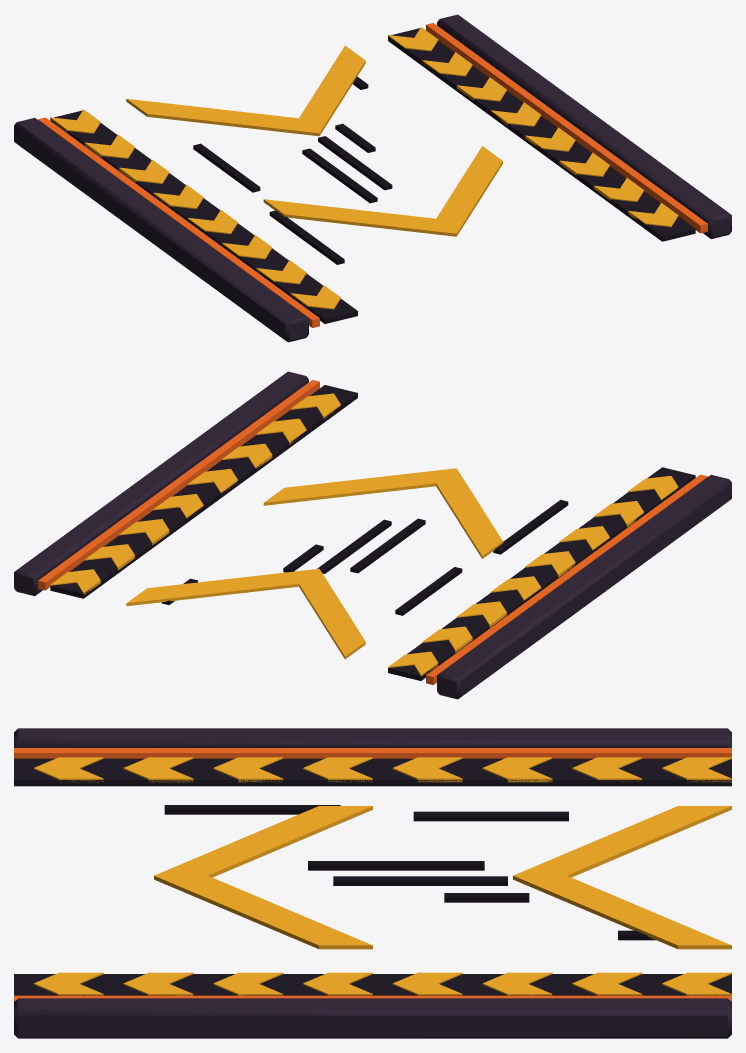
File: trap_crusher_lane__lower.glb
3 renders of one model, top to bottom at view 1: azimuth 30°, elevation 25°; view 2: azimuth 150°, elevation 25°; view 3: azimuth 270°, elevation 25°, orthographic. The views are drawn at different scales.
Parts seen in each view (by area): view 1: Lane; view 2: Lane; view 3: Lane.
Part boxes in pixels (<box>): Lane: <box>14,14,731,342</box>; Lane: <box>14,371,731,699</box>; Lane: <box>14,728,731,1038</box>.
Size of the model in its own units: 0.94 by 0.044 by 1.
